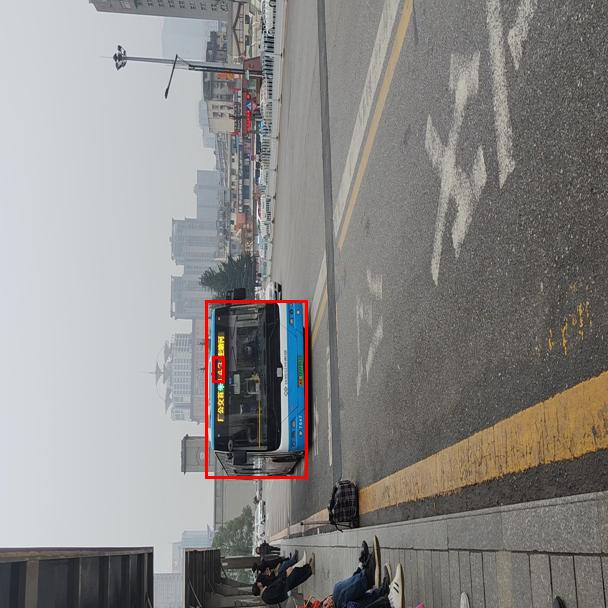bus: (205, 300, 307, 478)
screen: (212, 356, 224, 382)
